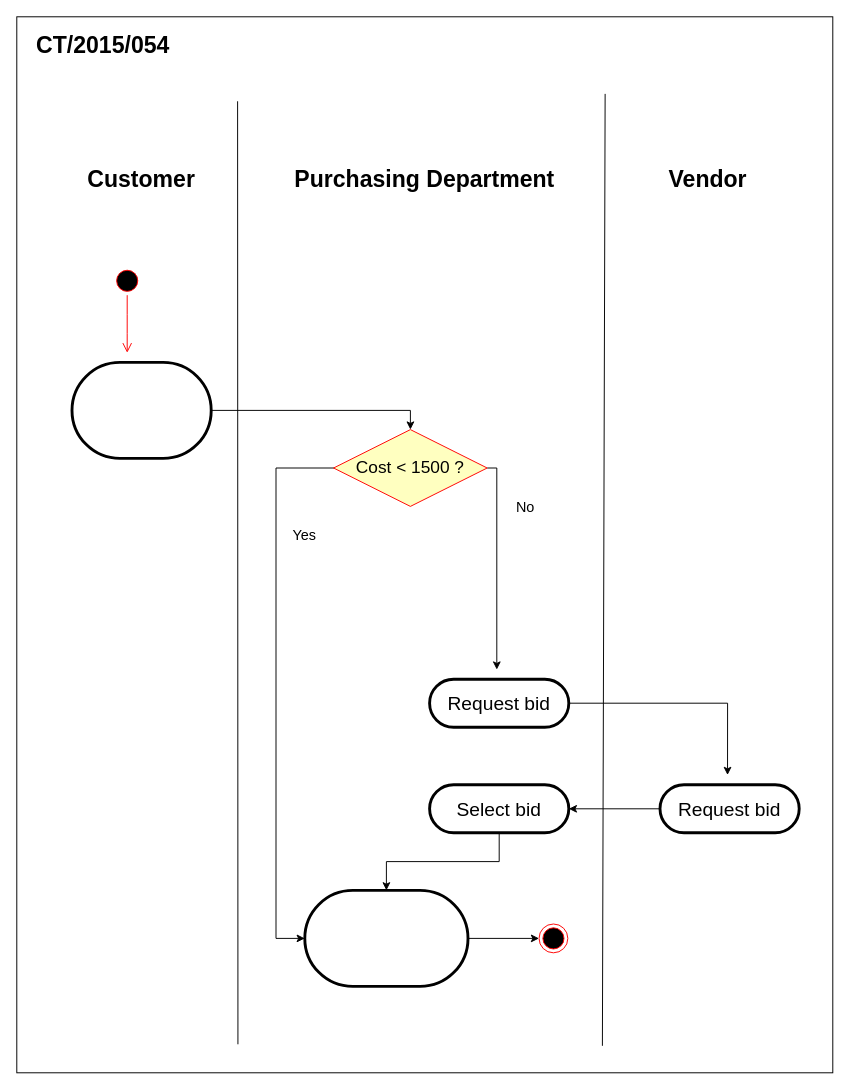
The diagram is 850 pixels wide and 1090 high, and some of its shapes have lost their labels. Each missing label, with the box of its shape:
Create Purchase Order: (303, 888, 469, 987)
Purchase Request: (70, 360, 212, 459)
